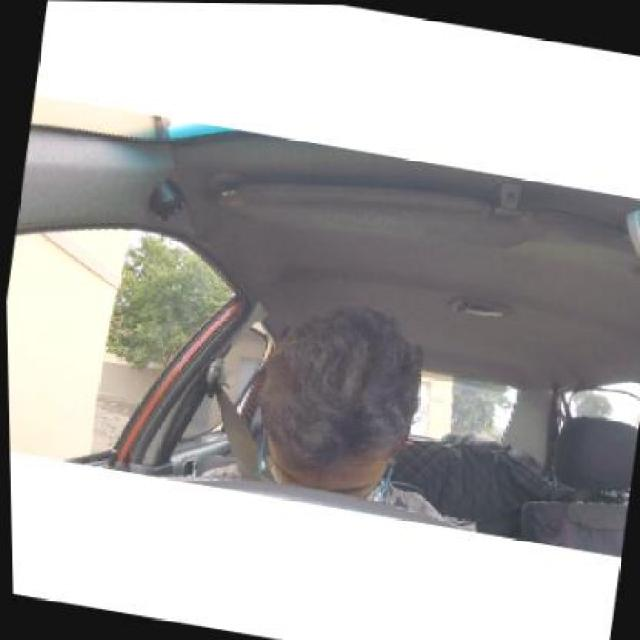drowsy: (263, 298, 426, 514)
